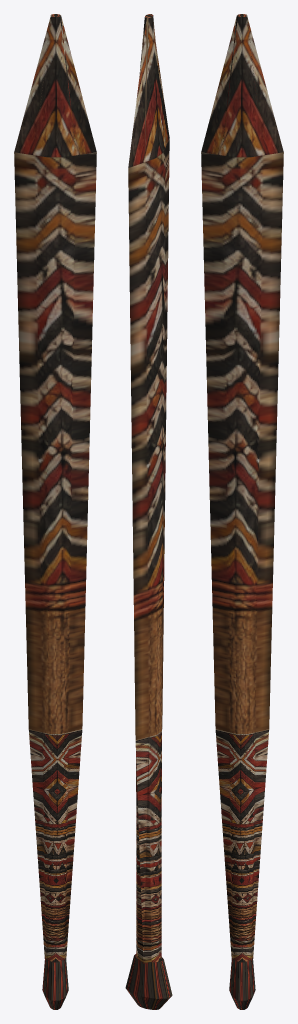
The model's file is tacape_2.dae.
3 renders of one model, left to right at view 1: azimuth 90°, elevation 25°; view 2: azimuth 150°, elevation 25°; view 3: azimuth 270°, elevation 25°, orthographic.
Visible parts, largest first — view 1: tacape_2; view 2: tacape_2; view 3: tacape_2.
Part boxes in pixels (x1,y1,x2,y2): tacape_2: [14, 14, 96, 1009]; tacape_2: [125, 14, 172, 1009]; tacape_2: [201, 14, 283, 1009].
Bounding box in the file's own units: 0.1441 × 0.2407 × 3.18.
